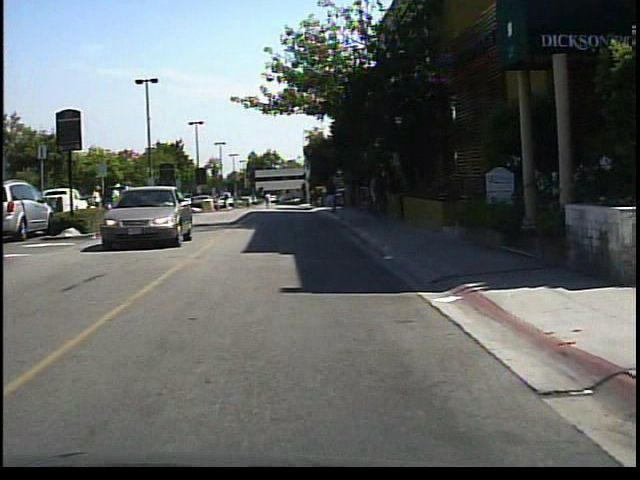person: (370, 164, 391, 223), (112, 179, 133, 229), (324, 172, 343, 218), (164, 176, 183, 222), (91, 184, 106, 226), (223, 188, 236, 214), (263, 192, 274, 212)
